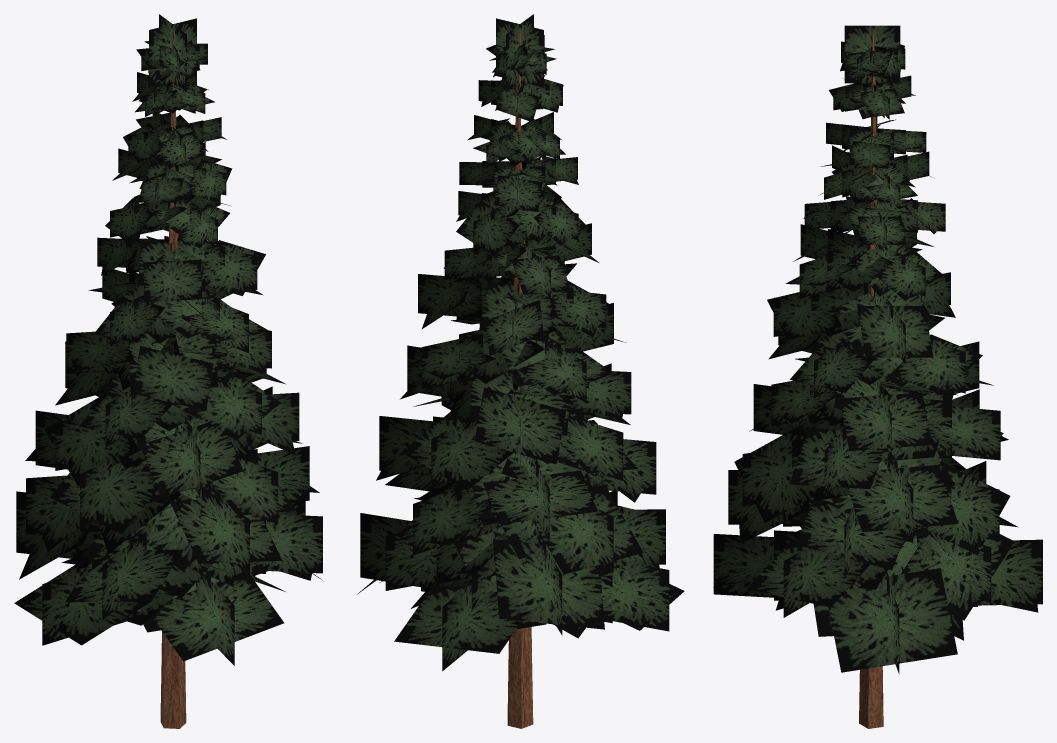
Rendered from Pine_4_LOD1.gltf.
The picture shows the model from 3 angles, left to right: view 1: azimuth 30°, elevation 25°; view 2: azimuth 150°, elevation 25°; view 3: azimuth 270°, elevation 25°; orthographic projection.
Visible parts, largest first — view 1: Pine_4_LOD1; view 2: Pine_4_LOD1; view 3: Pine_4_LOD1.
Part boxes in pixels (x1=…): Pine_4_LOD1: x1=14, y1=14, x2=322, y2=728; Pine_4_LOD1: x1=357, y1=14, x2=684, y2=728; Pine_4_LOD1: x1=713, y1=25, x2=1042, y2=728.
Bounding box in the file's own units: 8.23 × 19.22 × 8.23.
Materials: 2 (2 with a texture image).
